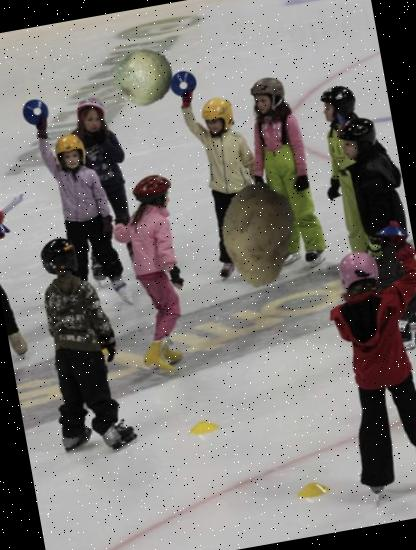Limes: (110, 42, 178, 111)
Potato: (196, 174, 318, 296)
